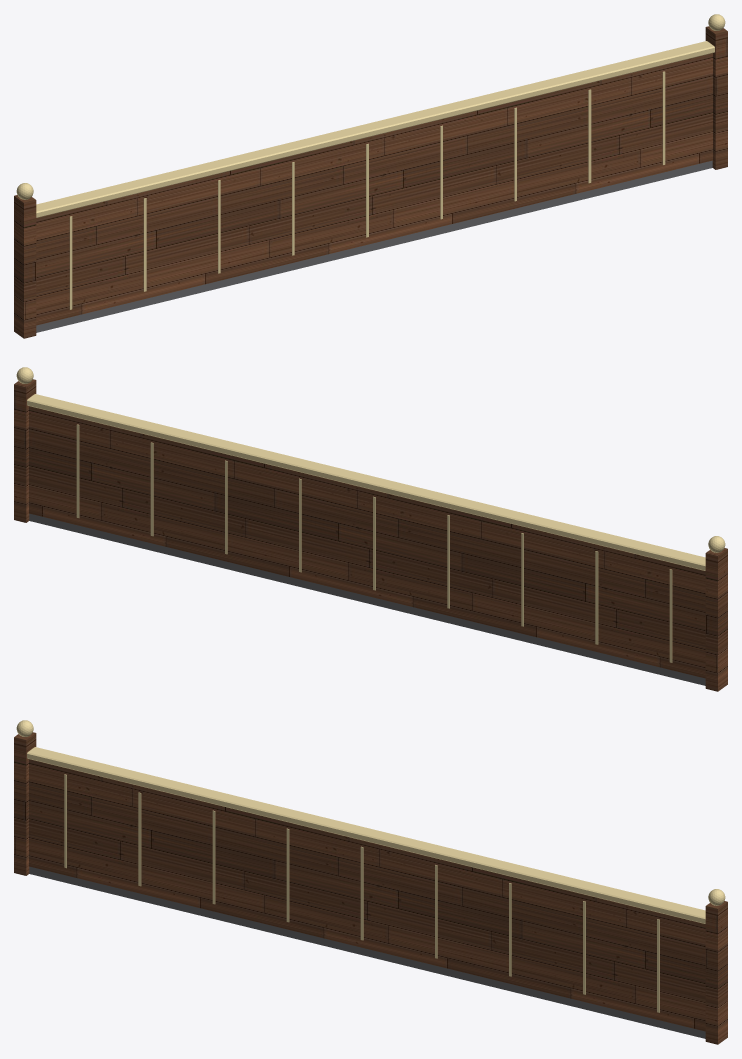
The model's file is rail_low.glb.
3 views of the same model, one above another, from view 1: azimuth 30°, elevation 25°; view 2: azimuth 150°, elevation 25°; view 3: azimuth 330°, elevation 25° (orthographic).
Visible parts, largest first — view 1: rail_low_walnut, rail_low_gold, rail_low_dark; view 2: rail_low_walnut, rail_low_gold, rail_low_dark; view 3: rail_low_walnut, rail_low_gold, rail_low_dark.
Part boxes in pixels (x1,y1,x2,y2): rail_low_walnut: (14,26,727,338); rail_low_gold: (16,14,725,309); rail_low_dark: (36,160,712,332); rail_low_walnut: (14,379,727,691); rail_low_gold: (16,367,725,662); rail_low_dark: (29,513,705,685); rail_low_walnut: (14,732,727,1044); rail_low_gold: (16,720,725,1012); rail_low_dark: (29,866,705,1038).
Size of the model in its own units: 5.72 by 1.16 by 0.14.
3 materials, 1 textured.
